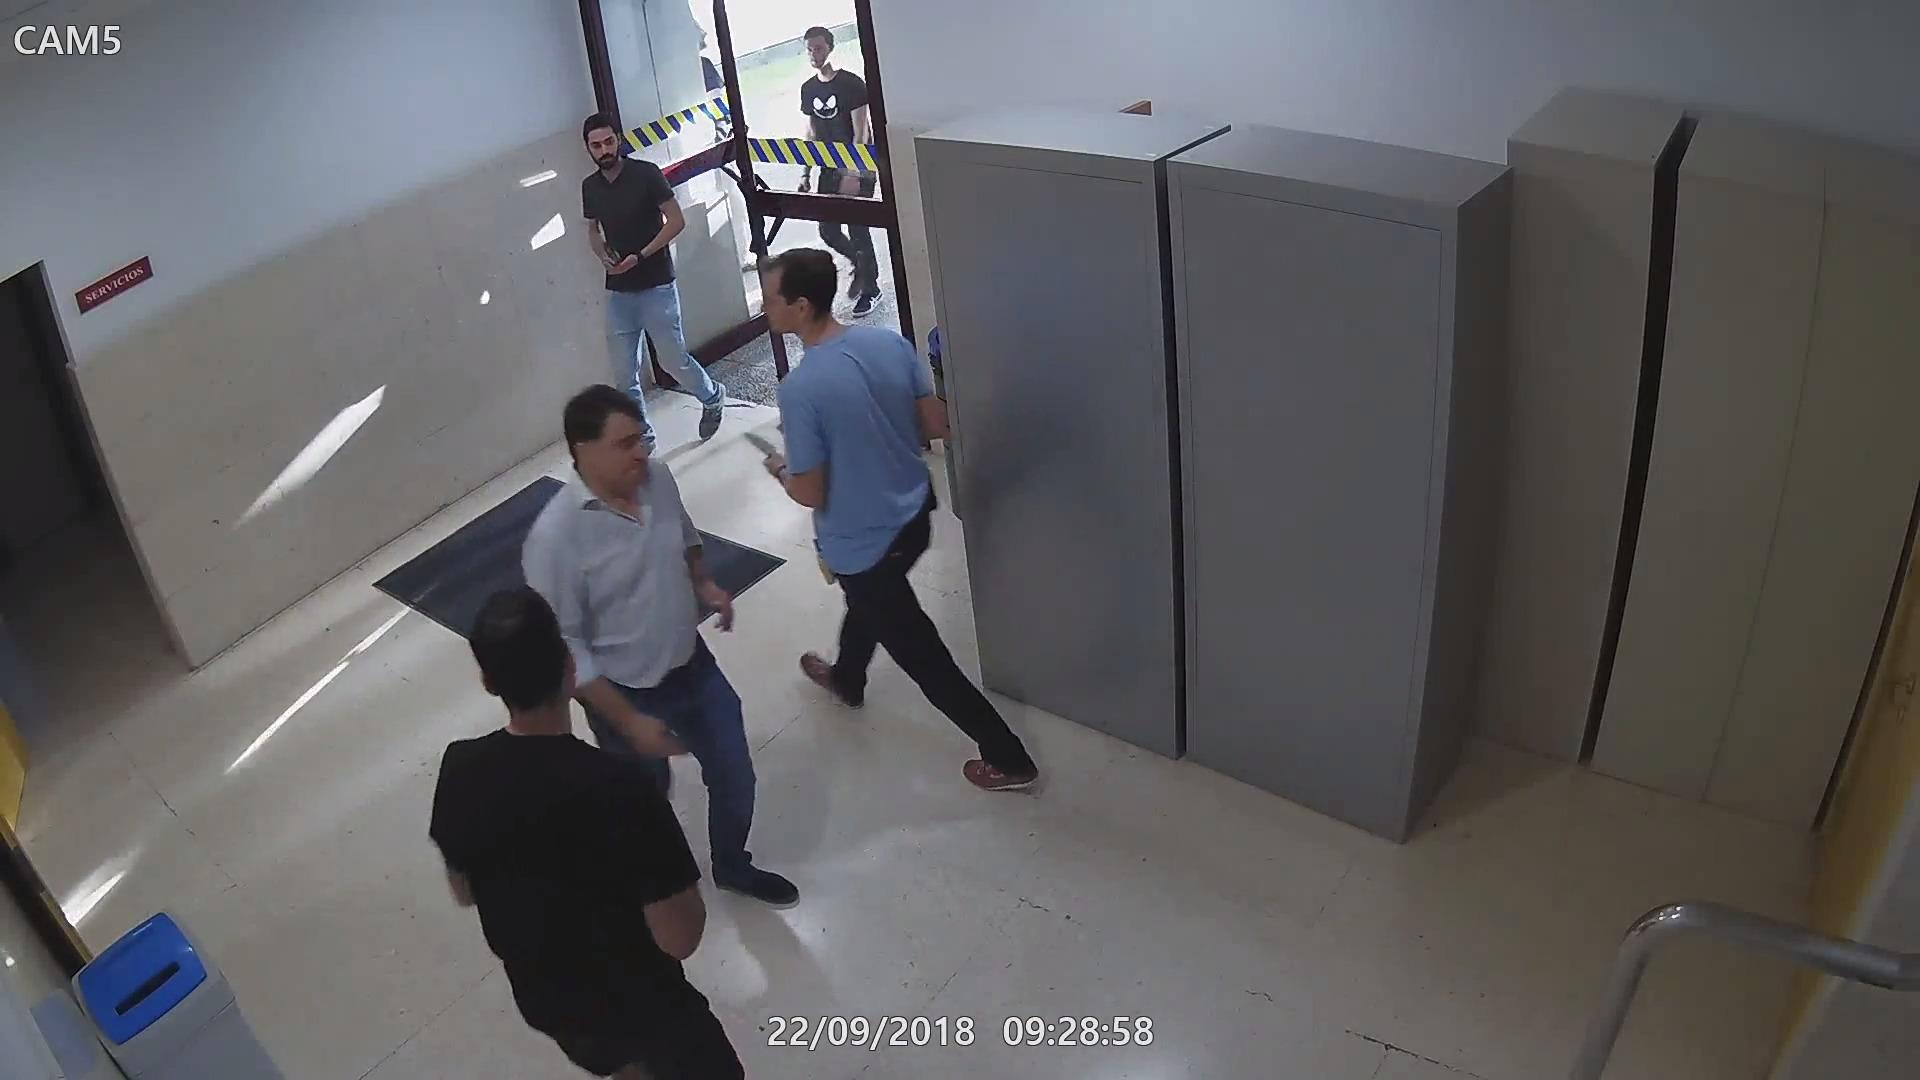Handgun: (617, 705, 707, 766), (599, 244, 629, 277), (796, 182, 807, 189)
